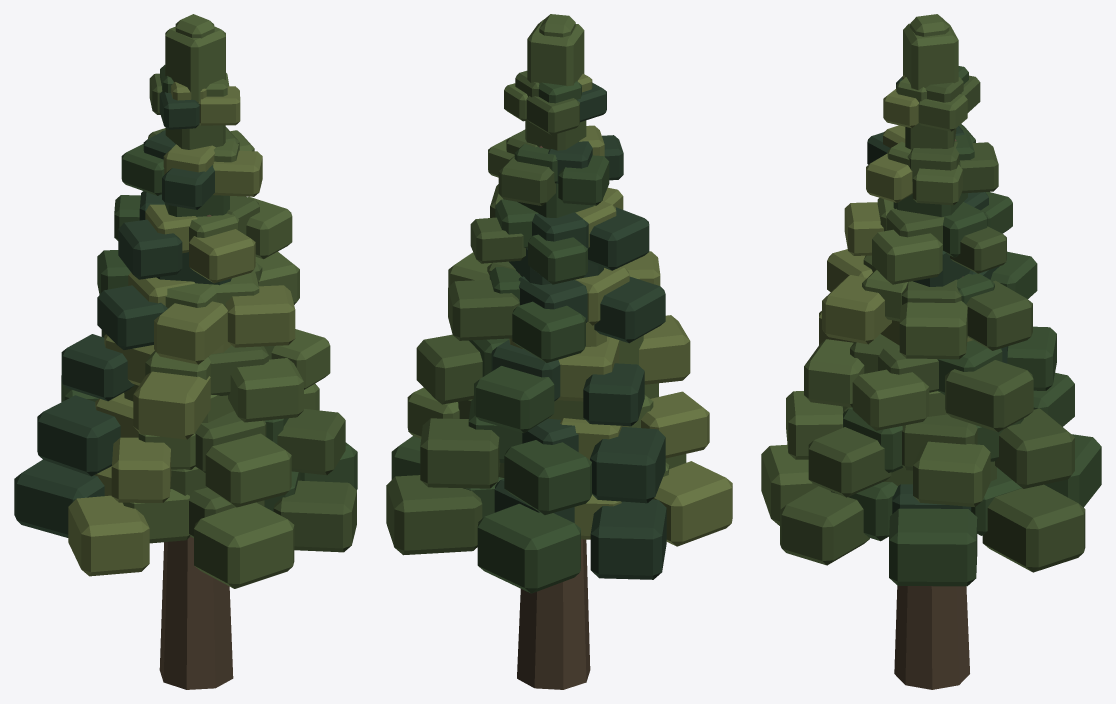
File: pine_ancient_2.glb
The picture shows the model from 3 angles, left to right: view 1: azimuth 30°, elevation 25°; view 2: azimuth 150°, elevation 25°; view 3: azimuth 270°, elevation 25°; orthographic projection.
Parts seen in each view (by area): view 1: pine_ancient_2; view 2: pine_ancient_2; view 3: pine_ancient_2.
Boxes of the visible parts, x1,y1,x2,y2 form: pine_ancient_2: [14, 14, 357, 689]; pine_ancient_2: [386, 14, 732, 689]; pine_ancient_2: [761, 14, 1101, 689].
Bounding box in the file's own units: 12.57 × 27 × 12.75.
